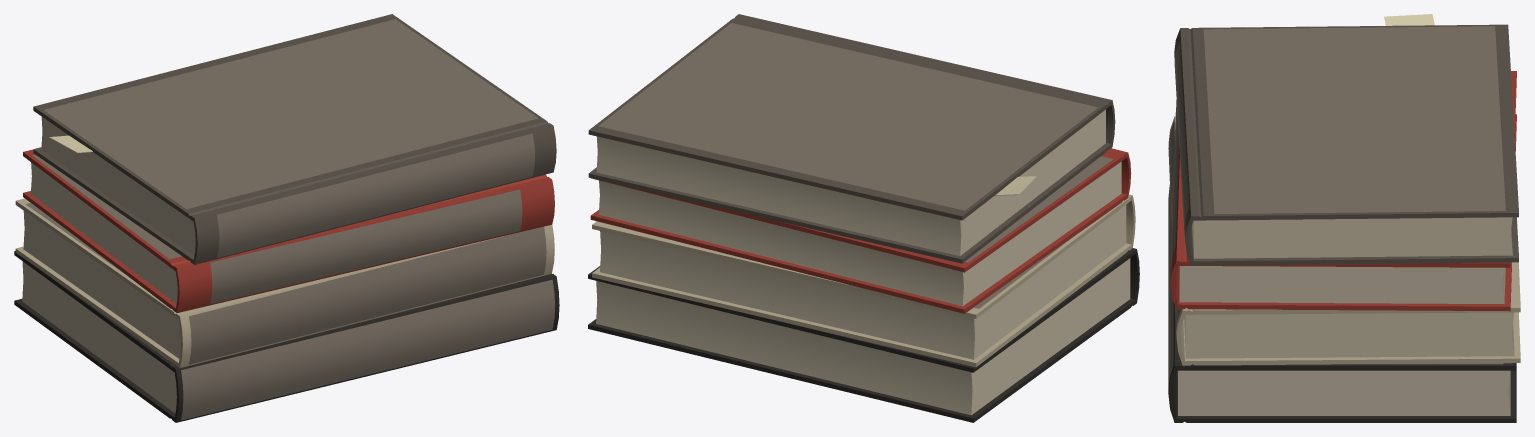
The model's file is bedroom-book-stack-239f9ad192e2.glb.
3 views of the same model, side by side, from view 1: azimuth 30°, elevation 25°; view 2: azimuth 150°, elevation 25°; view 3: azimuth 270°, elevation 25° (orthographic). The views are drawn at different scales.
Visible parts, largest first — view 1: book-print, paper, fabric, accent-warm, enamel-beige, speaker-cloth; view 2: paper, book-print, fabric, enamel-beige, accent-warm, speaker-cloth; view 3: book-print, paper, fabric, speaker-cloth, accent-warm, enamel-beige, dial-cream.
Part boxes in pixels (left/top/right/bottom): book-print: left=25, top=19, right=554, bottom=420; paper: left=22, top=117, right=195, bottom=413; fabric: left=33, top=14, right=556, bottom=264; accent-warm: left=23, top=149, right=554, bottom=312; enamel-beige: left=15, top=198, right=554, bottom=367; speaker-cloth: left=14, top=251, right=559, bottom=422; paper: left=596, top=109, right=1130, bottom=415; book-print: left=598, top=23, right=1121, bottom=308; fabric: left=588, top=14, right=1115, bottom=263; enamel-beige: left=592, top=194, right=1135, bottom=367; accent-warm: left=590, top=148, right=1131, bottom=313; speaker-cloth: left=588, top=248, right=1139, bottom=422; book-print: left=1168, top=26, right=1505, bottom=388; paper: left=1178, top=217, right=1514, bottom=415; fabric: left=1174, top=24, right=1518, bottom=265; speaker-cloth: left=1168, top=185, right=1516, bottom=422; accent-warm: left=1170, top=71, right=1516, bottom=311; enamel-beige: left=1168, top=116, right=1520, bottom=365; dial-cream: left=1384, top=14, right=1434, bottom=25.
Bounding box in the file's own units: 0.2359 × 0.1144 × 0.1741.
